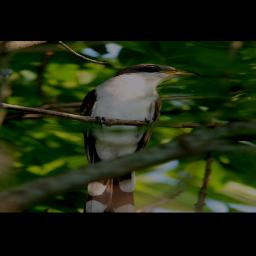Cuckoo: (77, 62, 203, 212)
